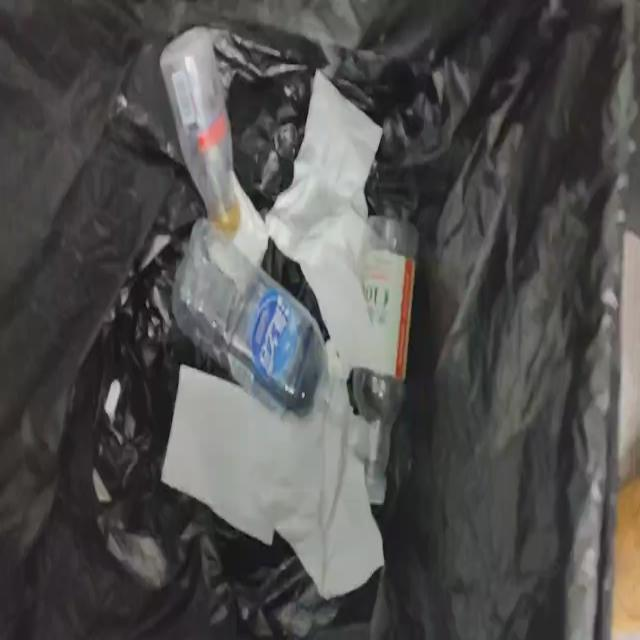bottle: (173, 219, 326, 417), (353, 215, 421, 503), (160, 28, 240, 238)
paper: (162, 360, 384, 598), (161, 365, 384, 598), (266, 71, 381, 377), (234, 178, 268, 264), (326, 341, 348, 380)
